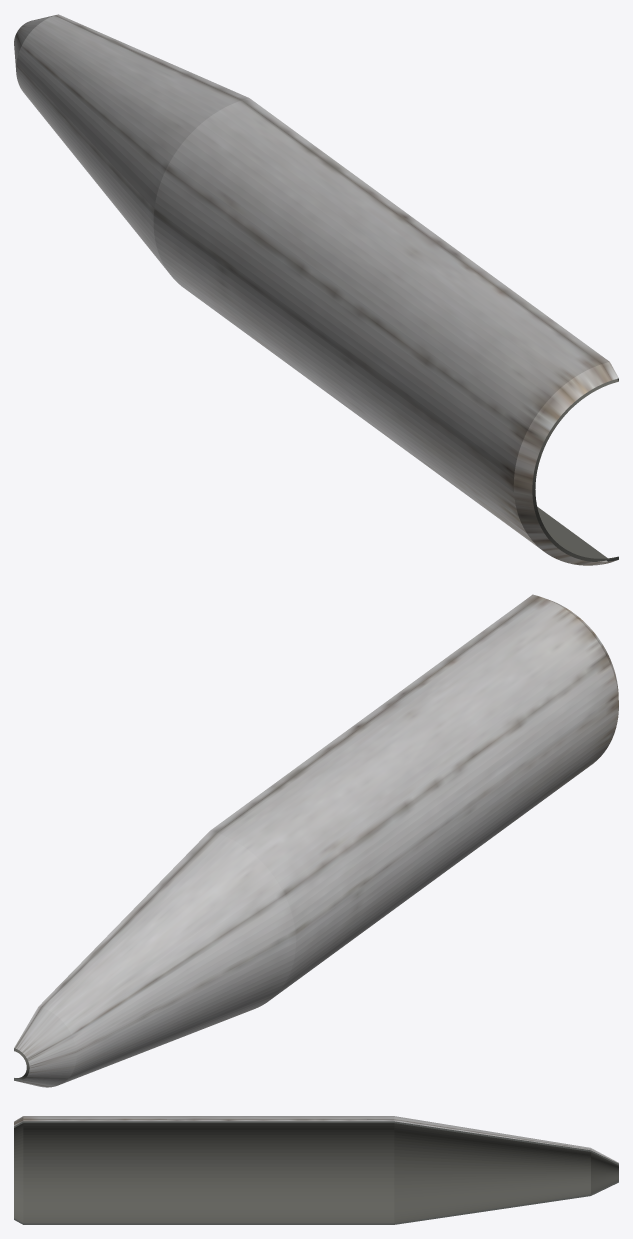
Rendered from shroud_left.obj.
3 renders of one model, top to bottom at view 1: azimuth 30°, elevation 25°; view 2: azimuth 150°, elevation 25°; view 3: azimuth 270°, elevation 25°, orthographic. The views are drawn at different scales.
Parts seen in each view (by area): view 1: shroud_left, shroud_interior_left; view 2: shroud_left; view 3: shroud_interior_left, shroud_left, shroud_edges_left.
Boxes of the visible parts, x1,y1,x2,y2 form: shroud_left: [14, 14, 618, 565]; shroud_interior_left: [532, 379, 618, 561]; shroud_left: [14, 594, 618, 1087]; shroud_interior_left: [14, 1123, 618, 1223]; shroud_left: [14, 1116, 618, 1163]; shroud_edges_left: [14, 1121, 618, 1224].
Size of the model in its own units: 3.05 by 6.1 by 32.3.
3 materials, 1 textured.
